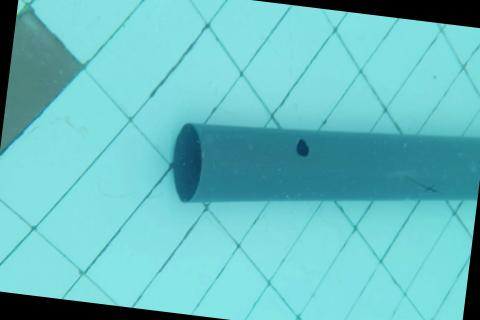kebocoran: (294, 137, 310, 159)
keretakan: (402, 174, 440, 195)
